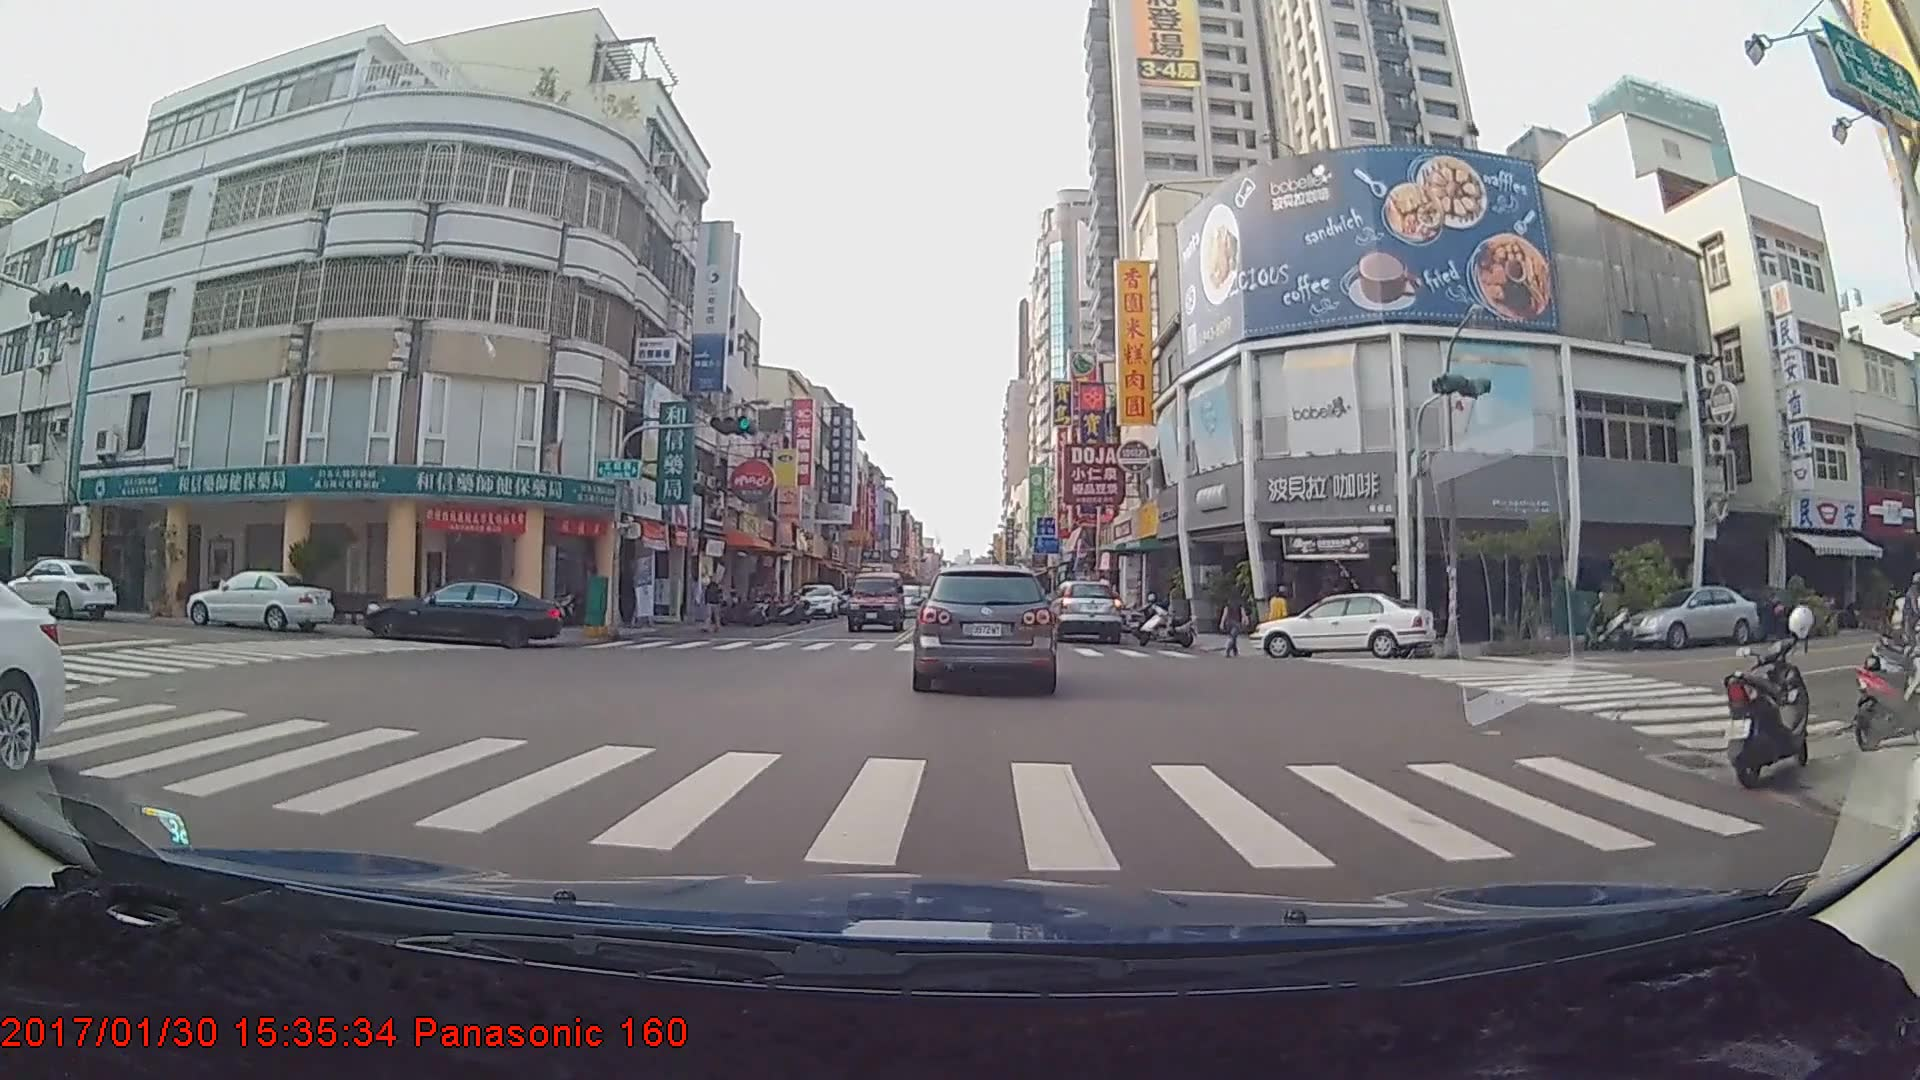pedestrian: (1221, 588, 1251, 662), (1266, 587, 1292, 658), (702, 574, 725, 638)
vehicle: (914, 563, 1056, 690), (359, 579, 561, 648), (1251, 593, 1436, 660), (186, 568, 341, 634), (1622, 584, 1758, 650), (4, 552, 121, 624), (1046, 580, 1122, 646), (844, 571, 906, 633), (792, 580, 839, 618)
